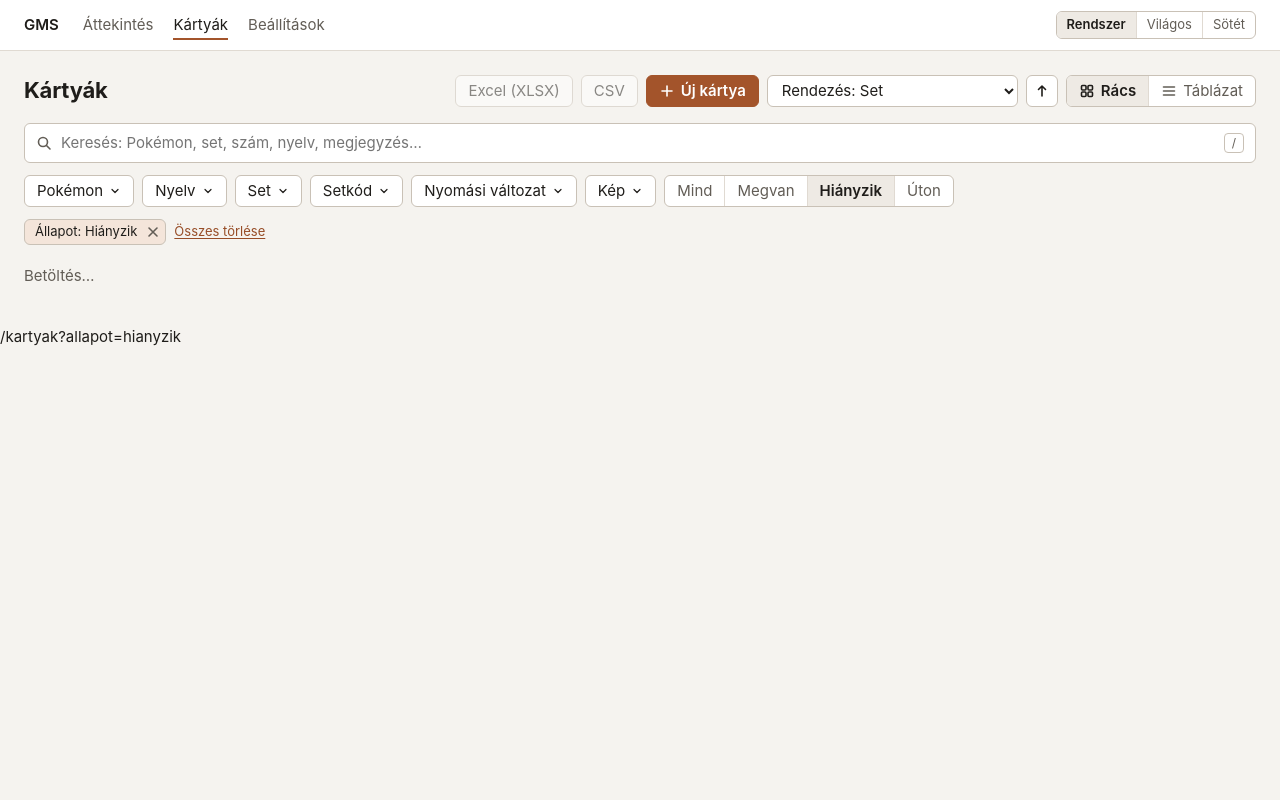
it: új kártya űrlap (S-21) › az "Új kártya" gomb megnyitja az űrlapot, a Mégse bezárja
What coordinates should you click on to do the following:
click the link "Új kártya"
I would click on:
 (702, 91)
Its box is [646,75,759,107].
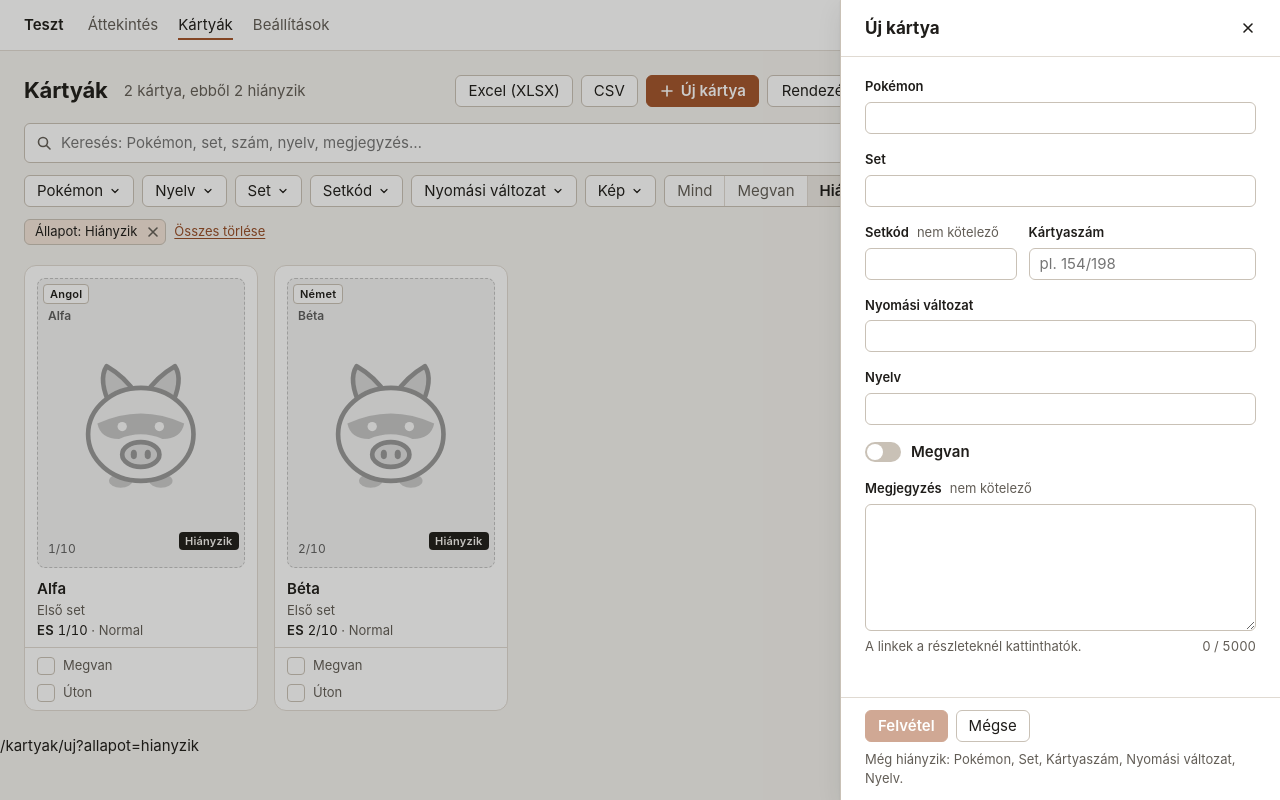
Check: the text with test id "location" reads "/kartyak/uj?allapot=hianyzik", box [0,736,199,755]
Check: the heading "Új kártya" is shown, box [865,16,940,40]
What coordinates should you click on to do the following:
click the button "Mégse"
I would click on:
 (993, 726)
Its box is [956,710,1030,742].
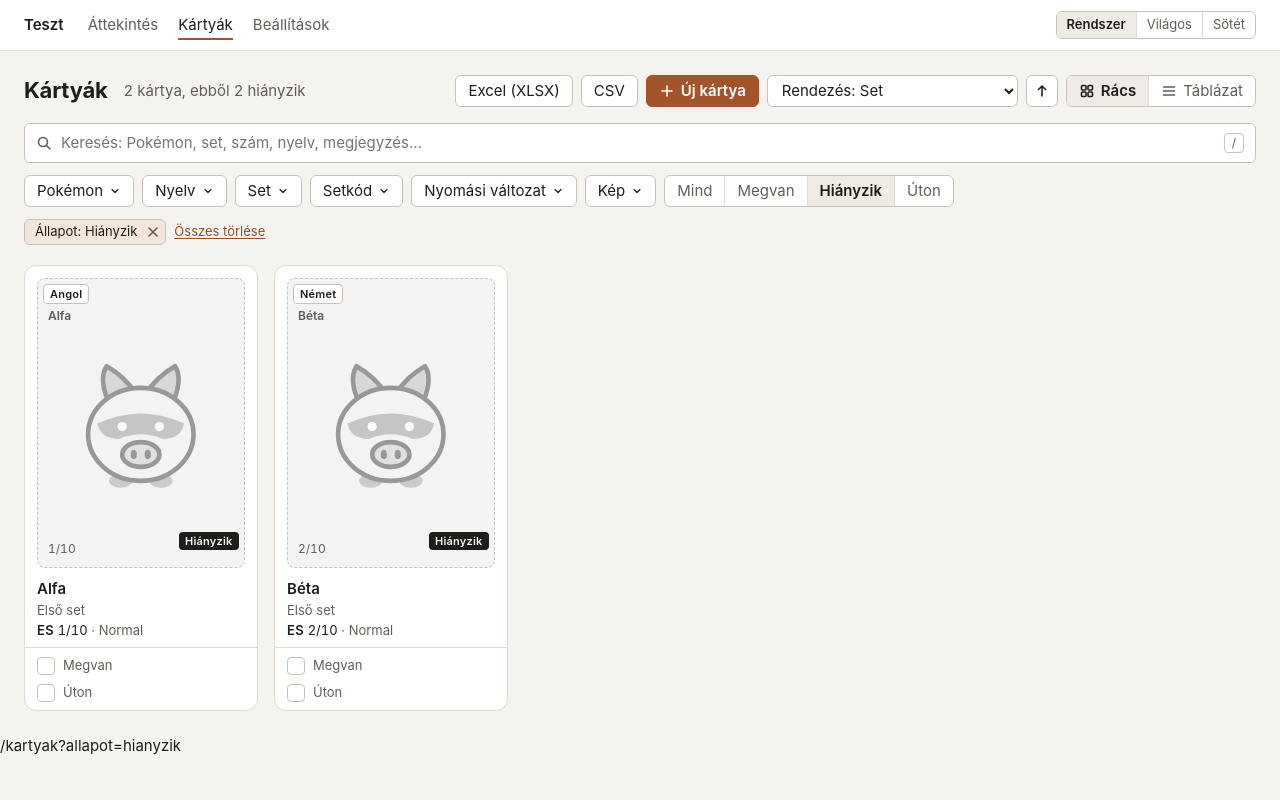
Check: the text with test id "location" reads "/kartyak?allapot=hianyzik", box [0,736,181,755]
Check: the form with test id "card-form" is gone
